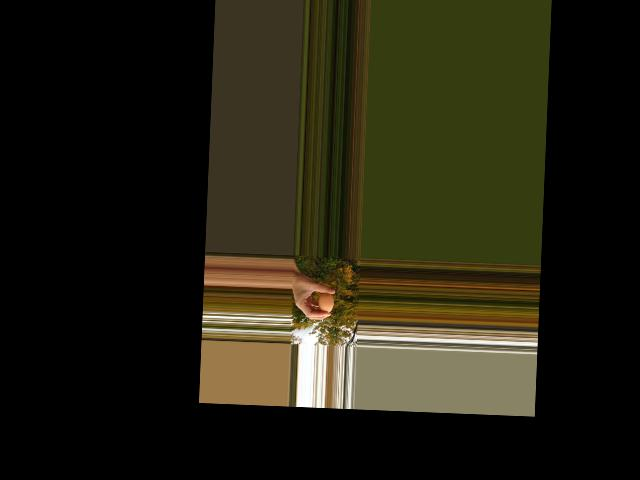egg: (318, 292, 334, 313)
